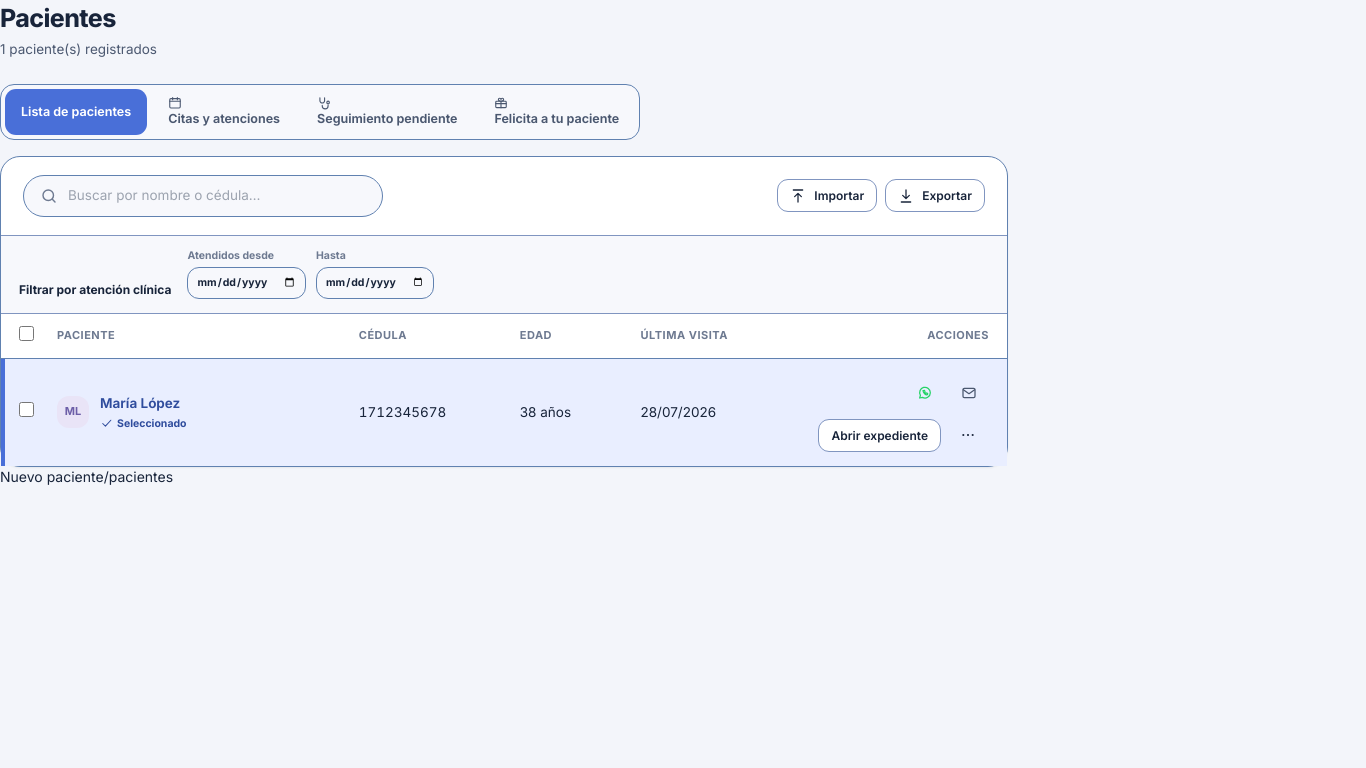
Scenario: PatientsPage › uses the mobile modal contract at 740px without leaving the desktop aside
Click the button with aria-label "Seleccionar a María López".
click(73, 412)  # box [57,394,323,431]
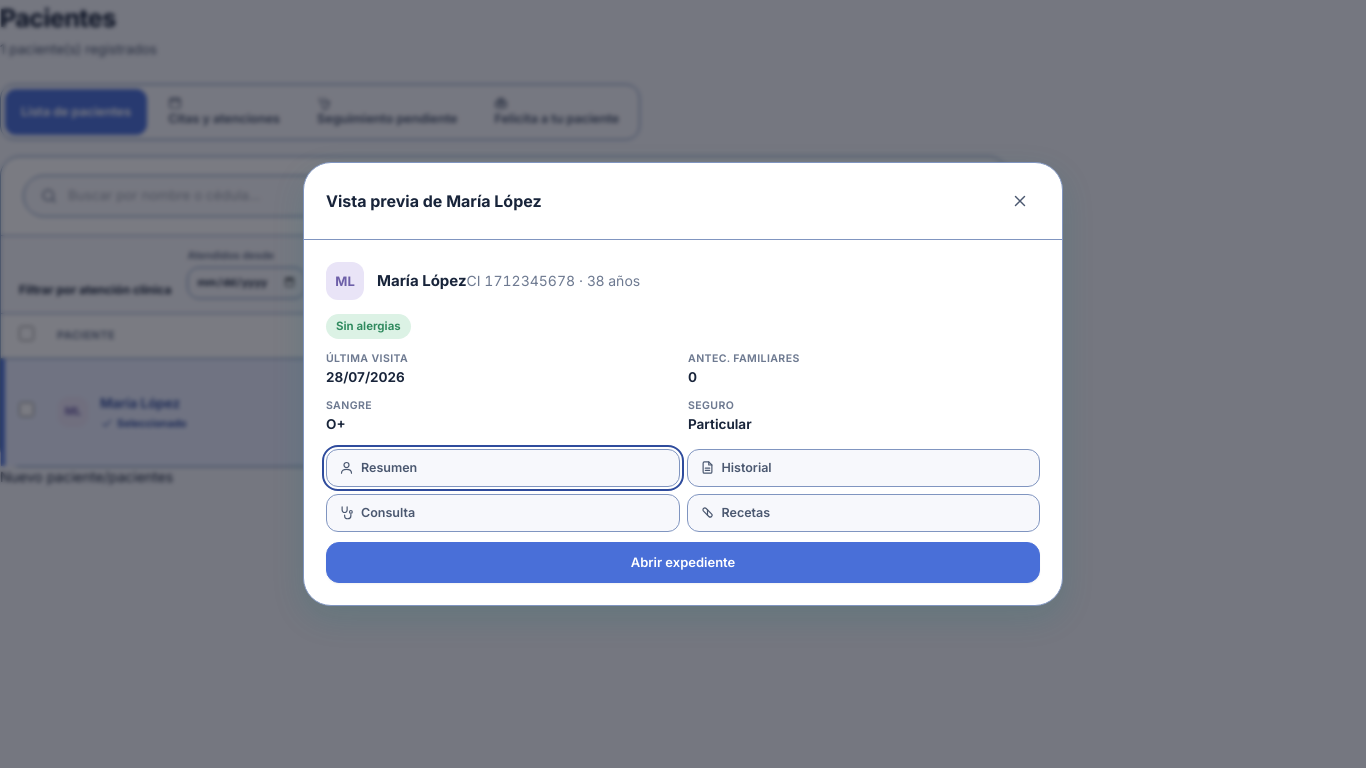
Result: the element that starts with "Pacientes" has attribute inert at [0,3,1008,467]
Result: the element that starts with "Pacientes" has attribute aria-hidden="true" at [0,3,1008,467]
Press Tab
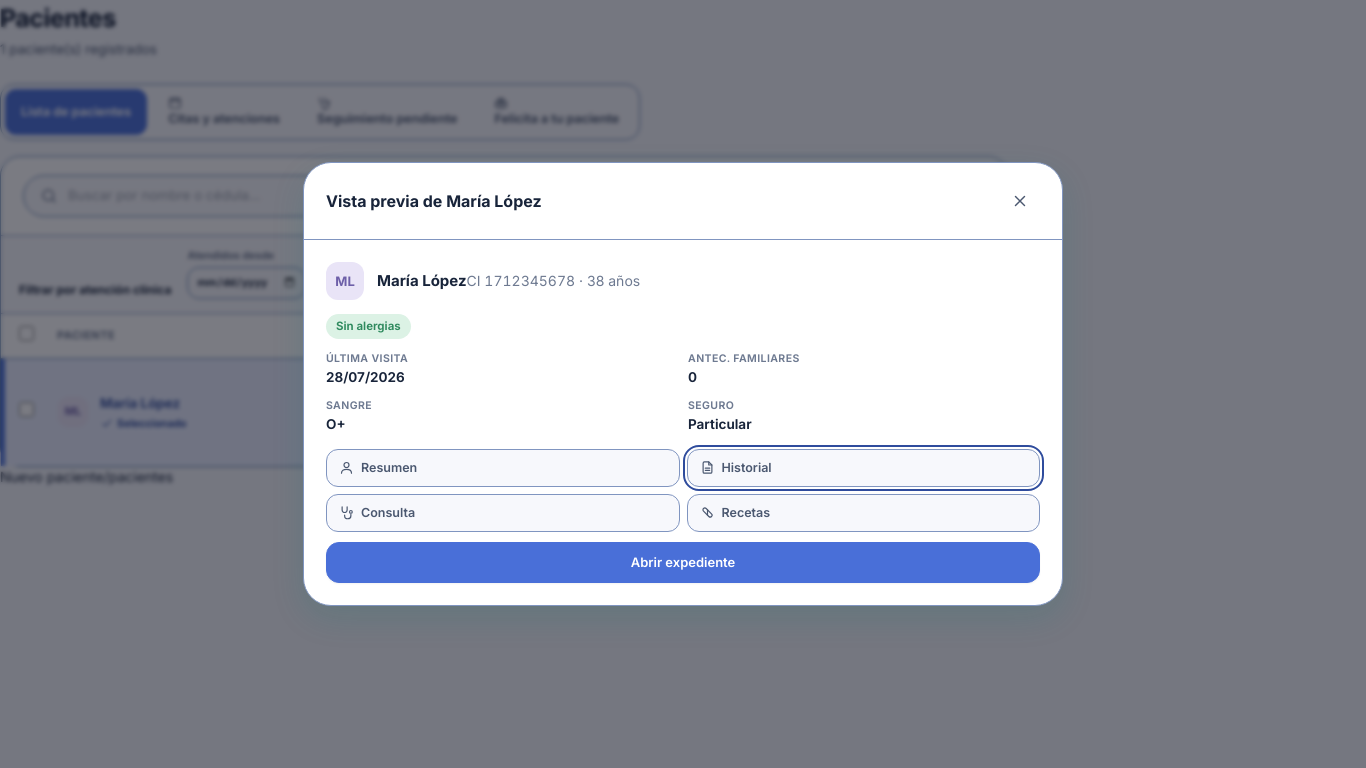
Press Escape
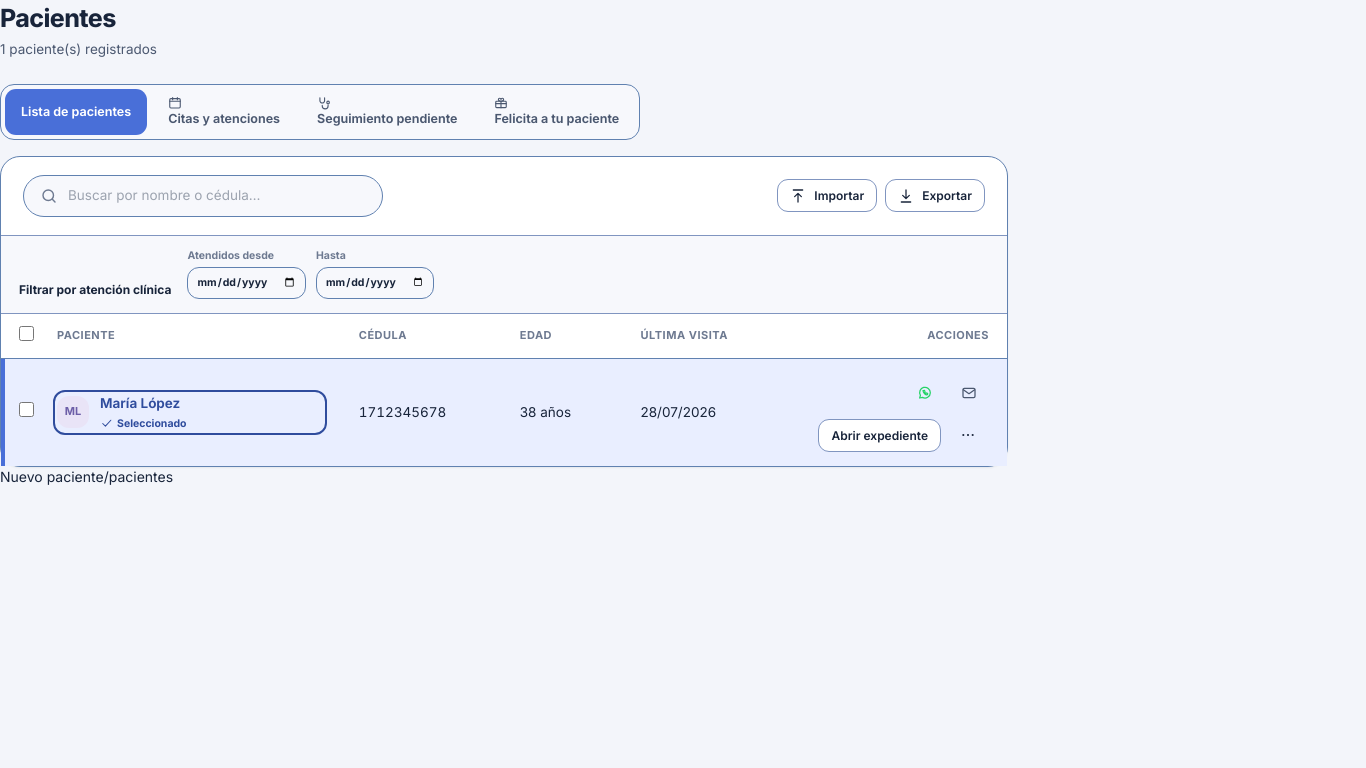
Result: the dialog is gone
Click the button with aria-label "Seleccionar a María López".
click(73, 412)  # box [57,394,323,431]
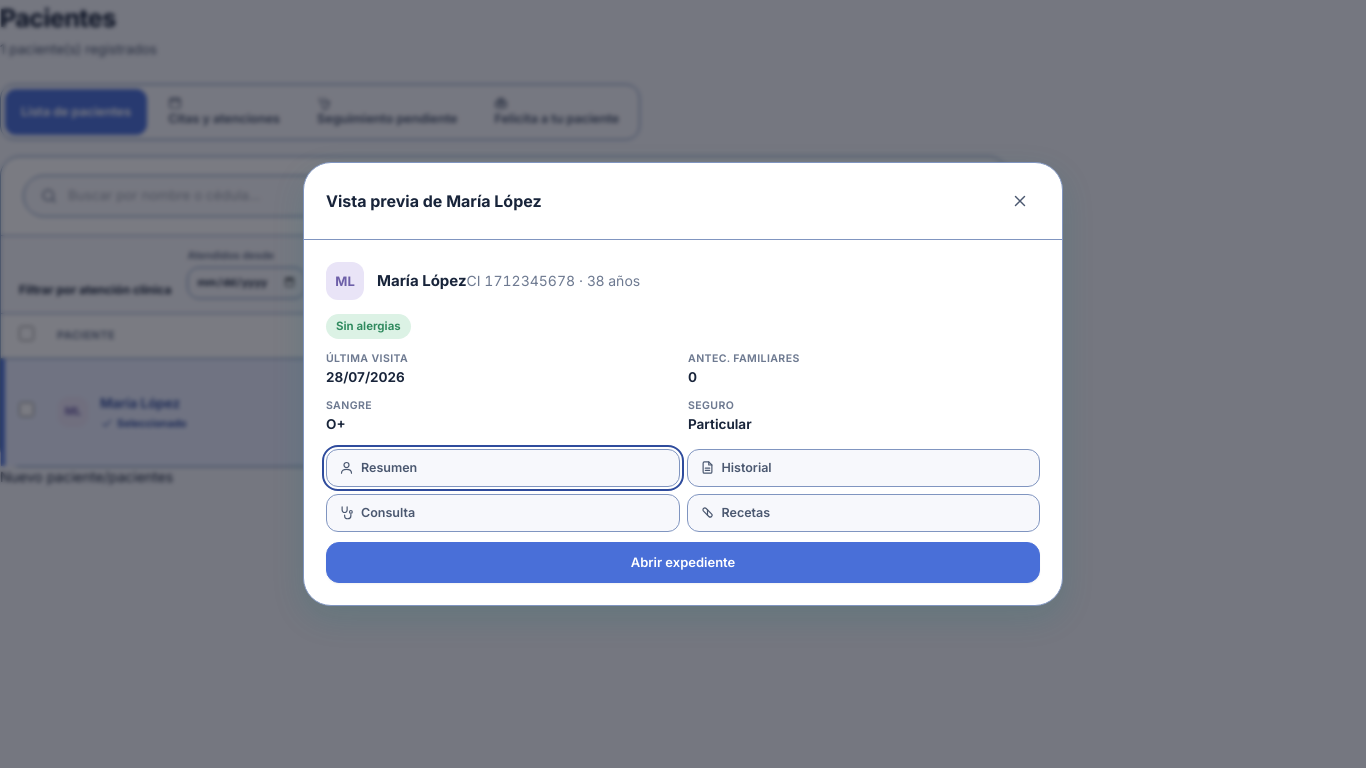
Result: the dialog "Vista previa de María López" is shown at [303,162,1063,606]
Click the element with class "modal-overlay".
click(82, 384)  # box [0,0,1365,767]
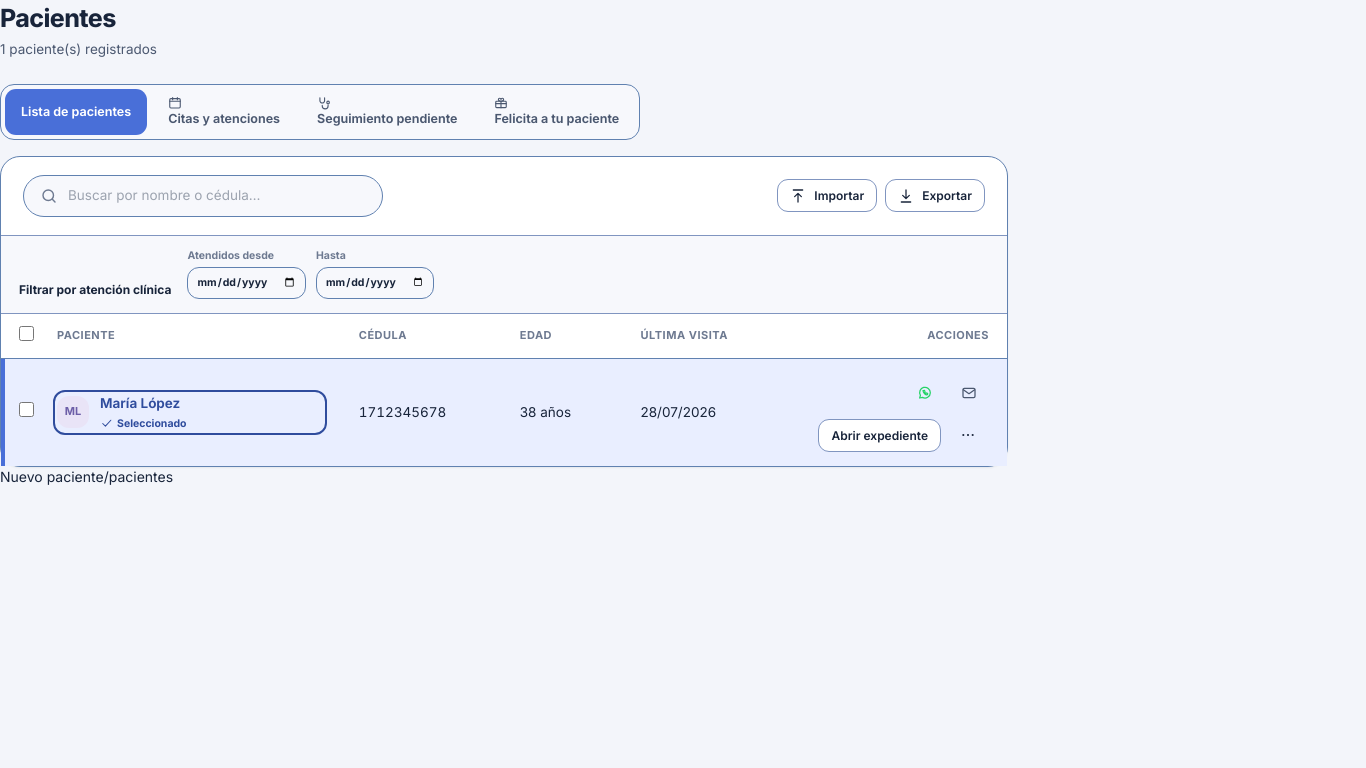
Result: the dialog is gone
